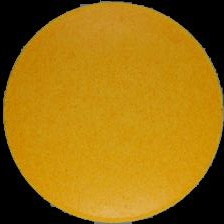23155-006: (0, 0, 224, 224)
